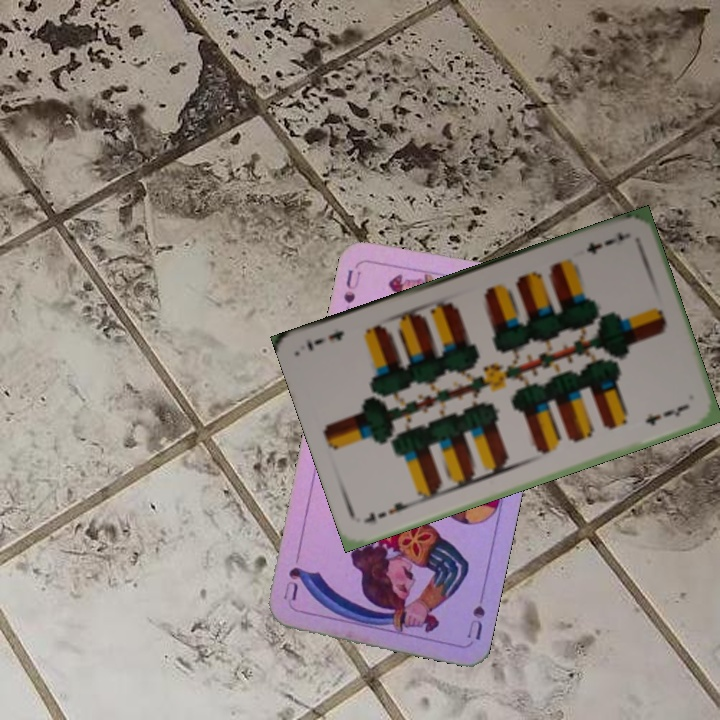E7: (360, 497, 417, 526), (582, 228, 632, 257)
SU: (462, 583, 488, 643), (339, 265, 363, 306)
